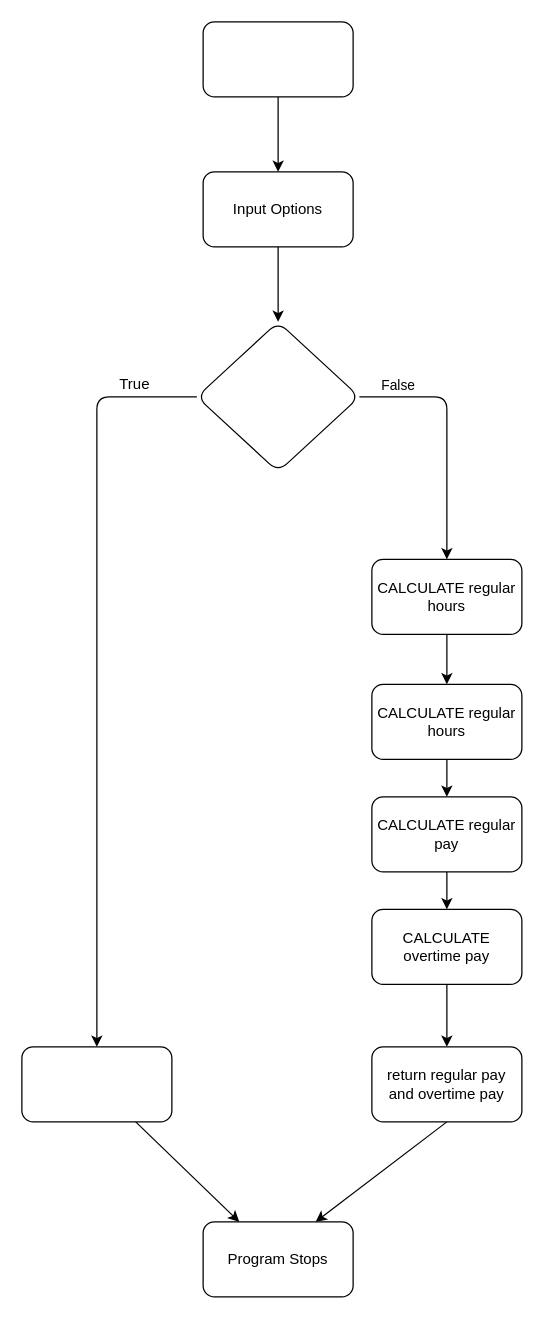
Image size: 544x1319. Some labels were removed from this diagram. The centre of each missing label's shape, as x and y in pixels:
"IF ot_start is None" belongs at [277,396].
"Program Starts" belongs at [277,59].
"return regular hours * regular pay" belongs at [96,1084].
